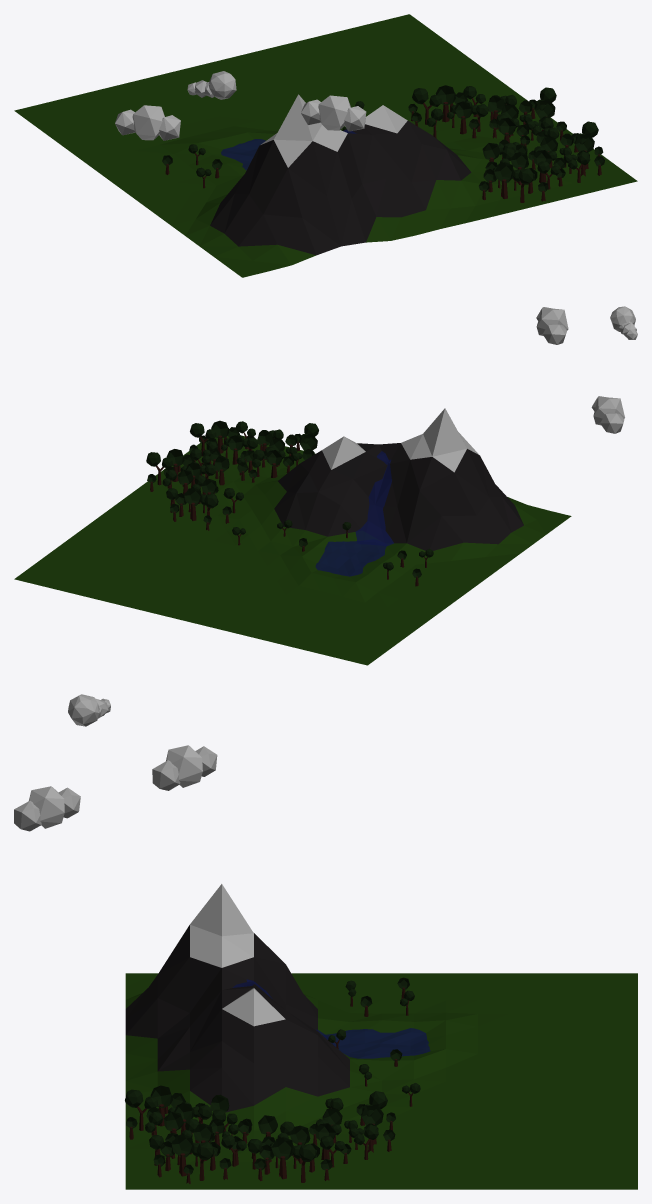
The model's file is mountain.obj.
3 views of the same model, one above another, from view 1: azimuth 30°, elevation 25°; view 2: azimuth 150°, elevation 25°; view 3: azimuth 270°, elevation 25° (orthographic). The views are drawn at different scales.
Visible parts, largest first — view 1: Plane, Icosphere.001_Icosphere.011, Icosphere.002_Icosphere.009, Icosphere_Icosphere.004, Plane.001, Cylinder.167_Cylinder.169, Cylinder.238_Cylinder.241, Cylinder.171_Cylinder.173; view 2: Plane, Plane.001, Icosphere.001_Icosphere.011, Icosphere.002_Icosphere.009, Icosphere_Icosphere.004; view 3: Plane, Plane.001, Icosphere.002_Icosphere.009, Icosphere.001_Icosphere.011, Icosphere_Icosphere.004.
Boxes of the visible parts, <box> form: Plane: <box>14,14,637,277</box>; Icosphere.001_Icosphere.011: <box>115,105,180,140</box>; Icosphere.002_Icosphere.009: <box>301,95,366,131</box>; Icosphere_Icosphere.004: <box>187,71,236,99</box>; Plane.001: <box>221,129,356,170</box>; Cylinder.167_Cylinder.169: <box>412,88,441,124</box>; Cylinder.238_Cylinder.241: <box>494,162,513,199</box>; Cylinder.171_Cylinder.173: <box>435,85,455,122</box>; Plane: <box>14,408,571,665</box>; Plane.001: <box>315,451,393,576</box>; Icosphere.001_Icosphere.011: <box>591,396,624,433</box>; Icosphere.002_Icosphere.009: <box>536,307,568,344</box>; Icosphere_Icosphere.004: <box>610,306,637,339</box>; Plane: <box>125,884,637,1189</box>; Plane.001: <box>232,979,430,1058</box>; Icosphere.002_Icosphere.009: <box>14,786,80,831</box>; Icosphere.001_Icosphere.011: <box>152,745,217,790</box>; Icosphere_Icosphere.004: <box>68,694,110,726</box>.
Size of the model in its own units: 19.77 by 8.89 by 19.51.
